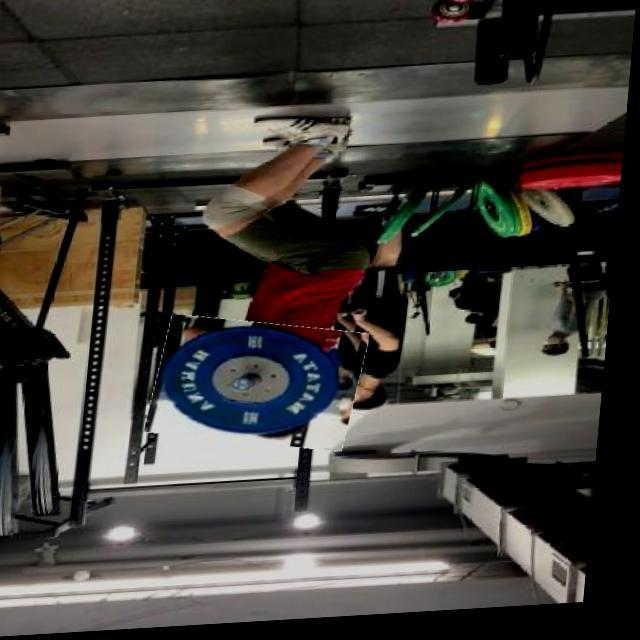barbell: (156, 316, 375, 459)
